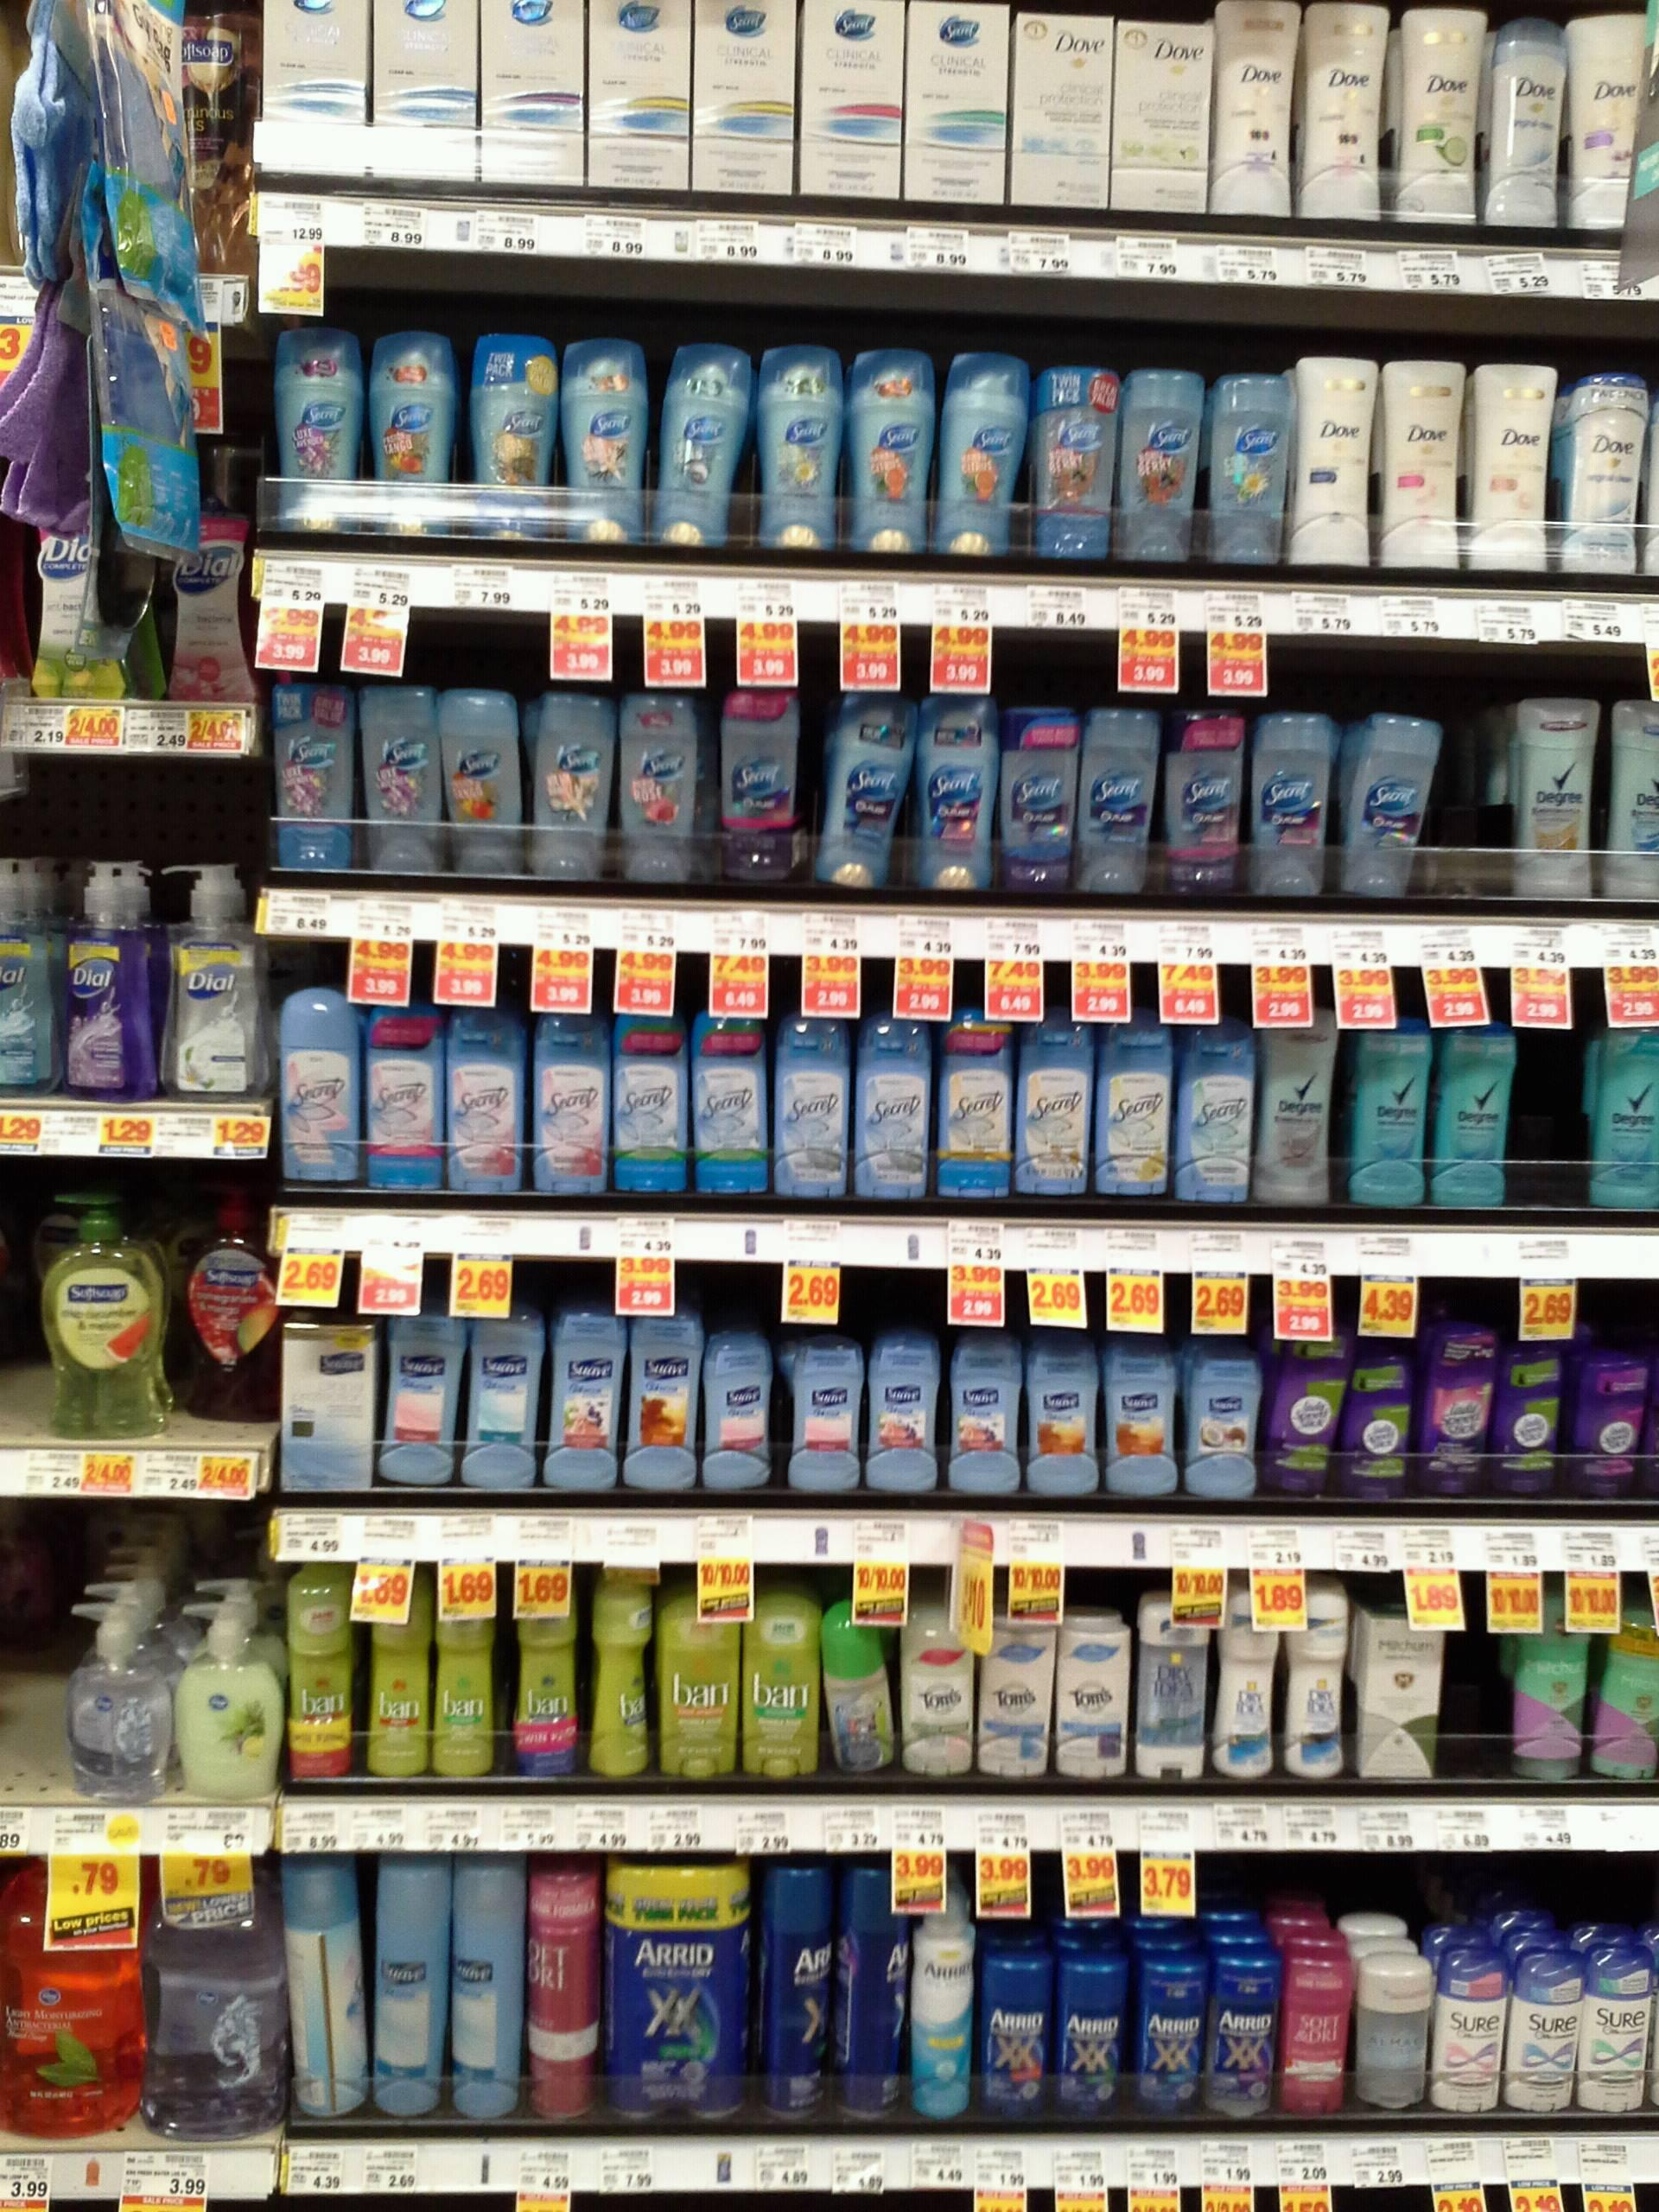empty: (1436, 725, 1513, 894), (0, 1611, 63, 1797), (1438, 1649, 1507, 1791)
